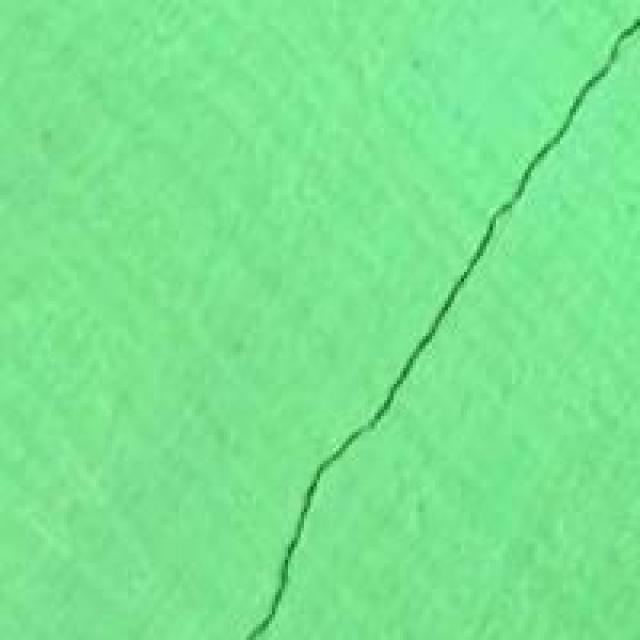crack: (221, 3, 637, 637)
